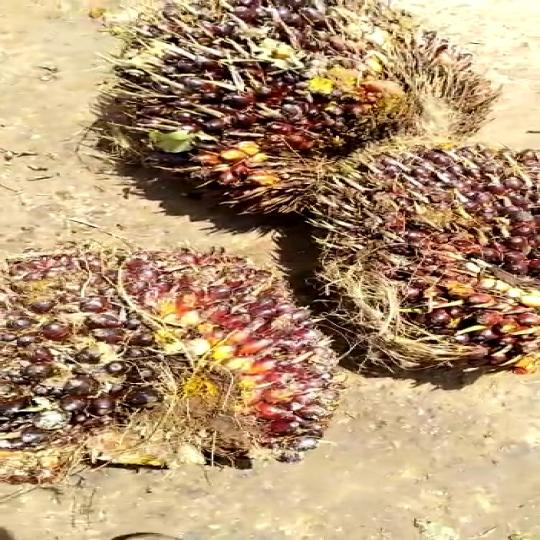kurang masak: (7, 223, 342, 524), (93, 0, 485, 249), (297, 128, 540, 407)
